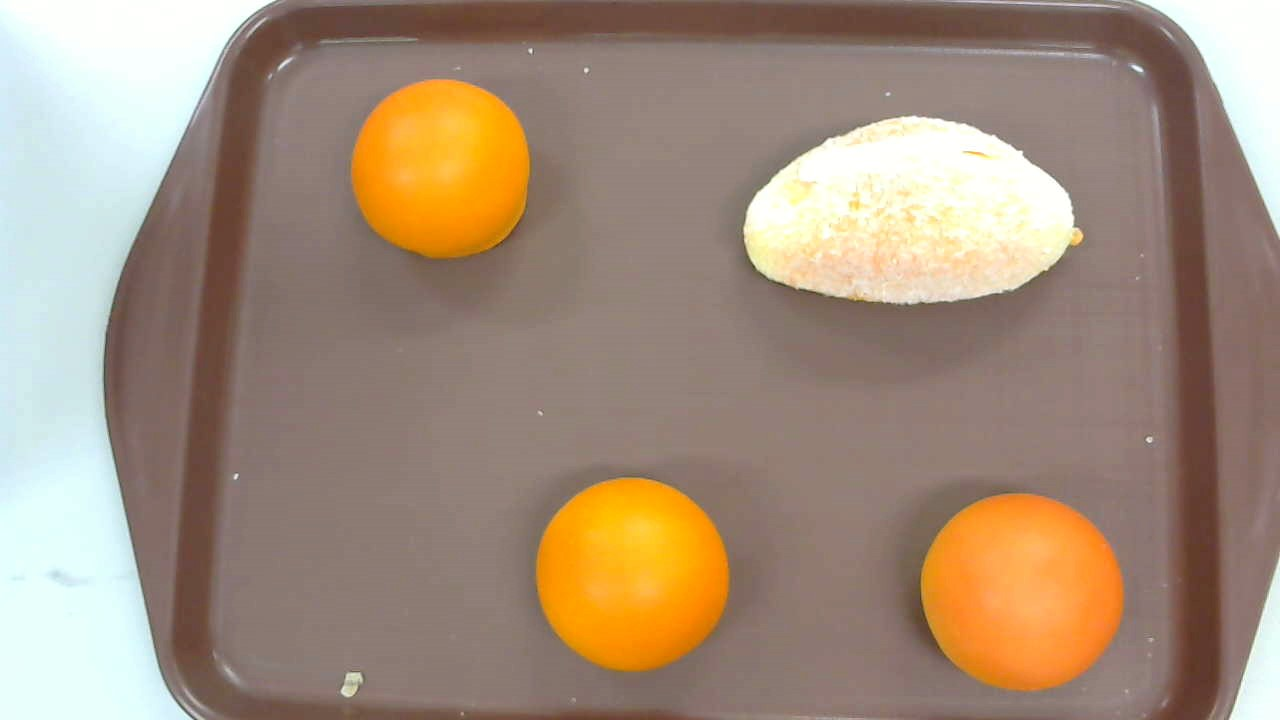bun: (919, 492, 1123, 694), (535, 476, 730, 671), (351, 78, 531, 259)
coconut: (743, 114, 1084, 305)
